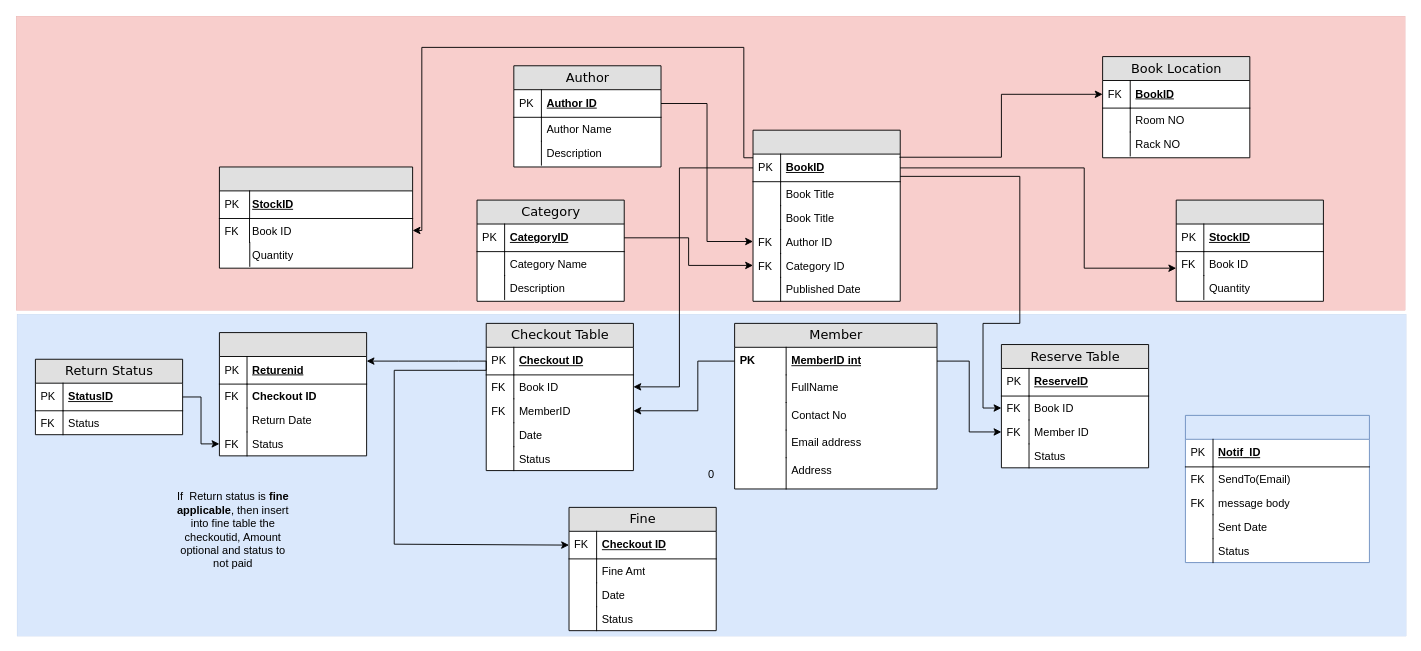
This 1421x651 diagram has some shape labels left out. Each missing label, with the box of its shape:
Book Return Table: (218, 332, 367, 456)
Book Stock: (1175, 199, 1323, 301)
Book transaction stock: (218, 166, 413, 268)
Books: (752, 129, 900, 301)
Notification: (1184, 414, 1369, 563)
